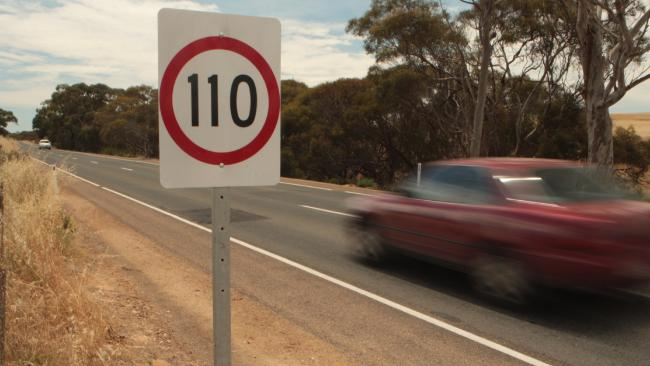Speed_limit_110km: (157, 36, 280, 167)
